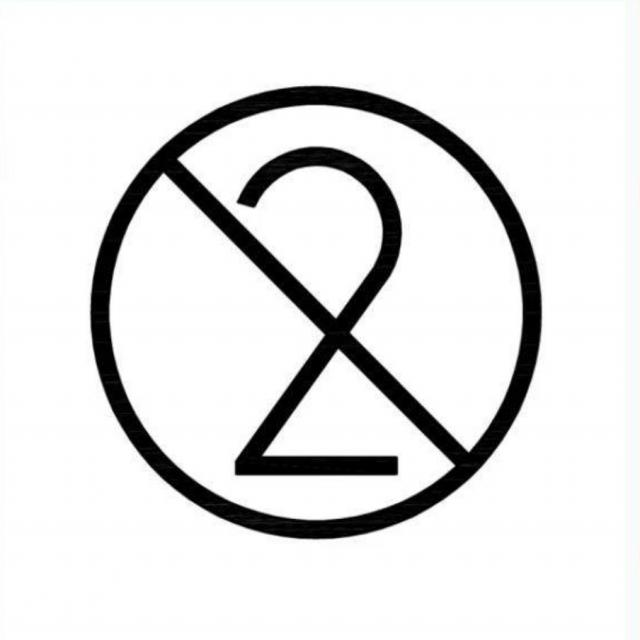Do not reuse: (86, 80, 546, 549)
